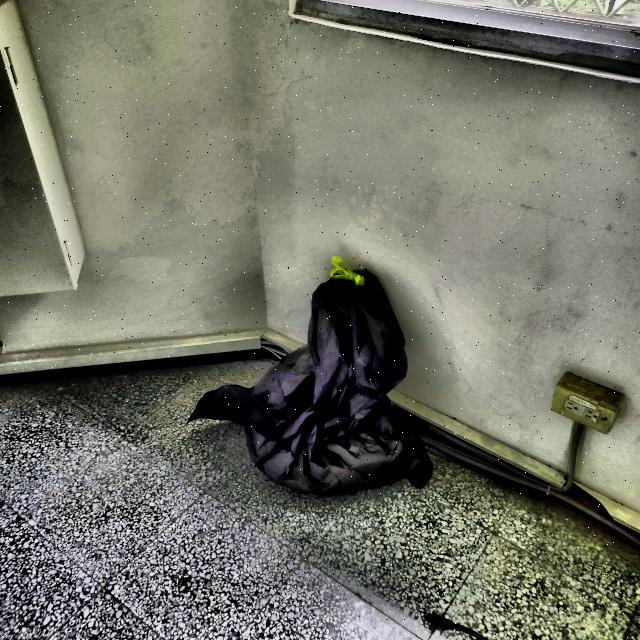Trashbag: (183, 248, 444, 510)
